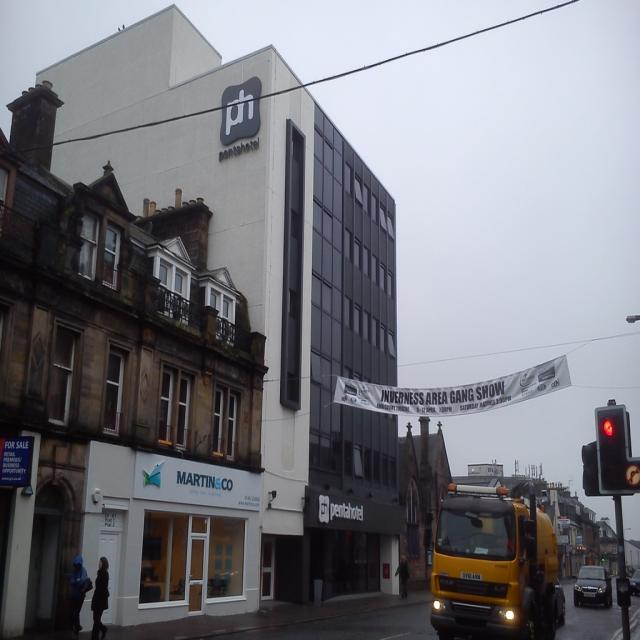other: (570, 562, 614, 611)
